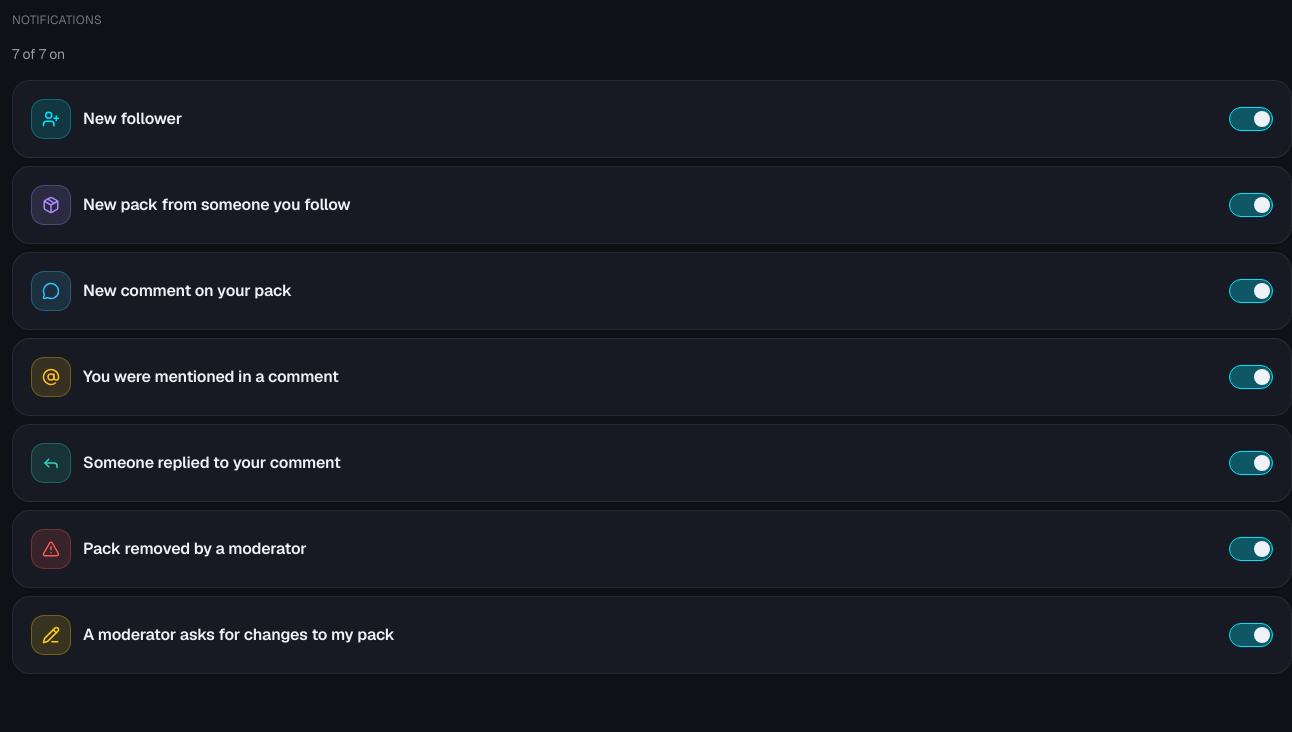
Test: NotificationsSection › a failed toggle reverts to the prior state, shows a per-row error, and does not affect other toggles
Click the switch named "New comment on your pack" at (1251, 291), box x1=1229 y1=279 x2=1273 y2=303
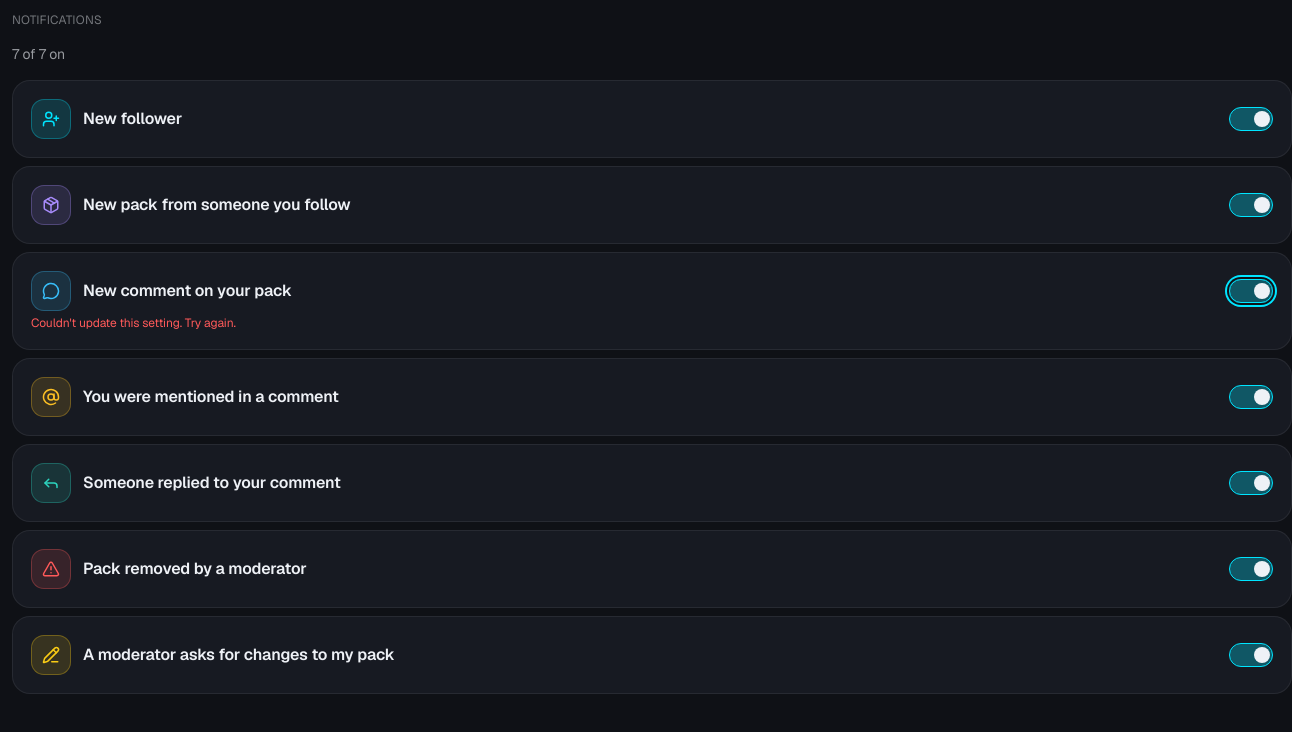
Check: the text "Couldn't update this setting. Try again." is shown, box x1=31 y1=315 x2=236 y2=331
